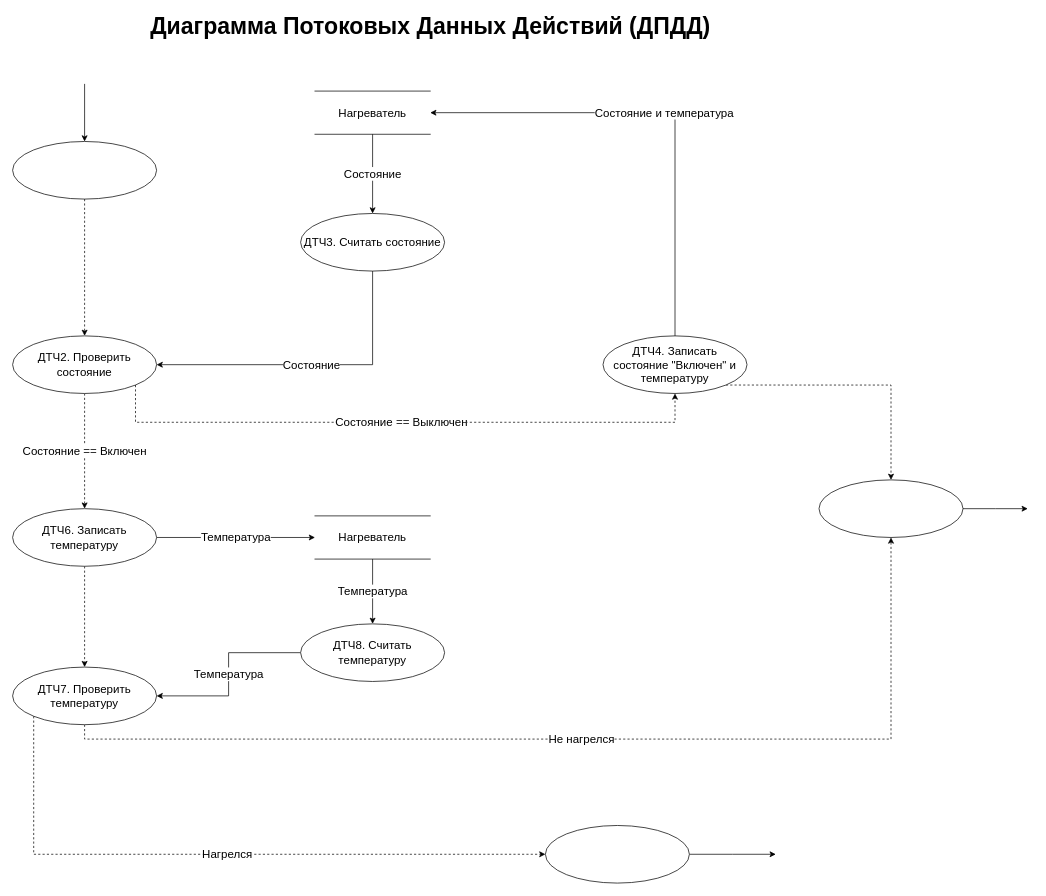
This 1046x896 diagram has some shape labels left out. Each missing label, with the centre of its shape:
ДТЧ1. Принять событие: the point at 84,170
ДТЧ5. Породить событие ДТ1: the point at 890,508
ДТЧ9. Породить событие ДТ2: the point at 617,854
